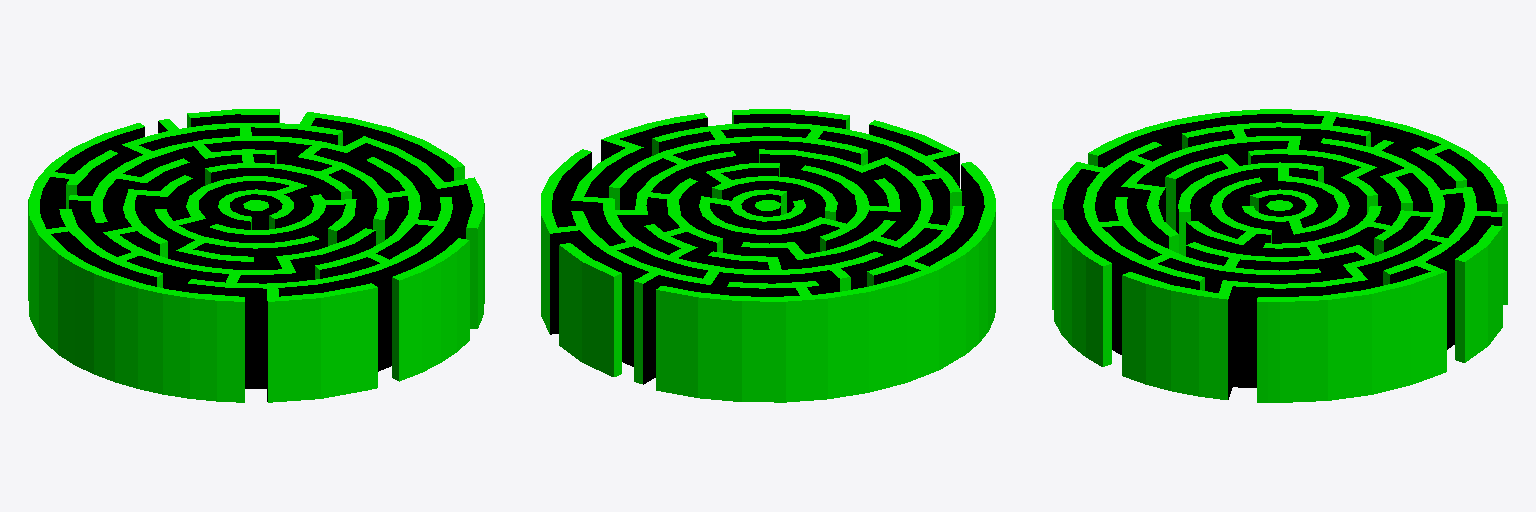
Rendered from GreenMaze.obj.
3 views of the same model, side by side, from view 1: azimuth 30°, elevation 25°; view 2: azimuth 150°, elevation 25°; view 3: azimuth 270°, elevation 25° (orthographic).
Visible parts, largest first — view 1: Mesh1 Model, Mesh3 Model, Mesh6 Model, Mesh2 Model, Mesh5 Model, Mesh4 Model; view 2: Mesh1 Model, Mesh3 Model, Mesh5 Model, Mesh2 Model, Mesh6 Model; view 3: Mesh1 Model, Mesh3 Model, Mesh6 Model, Mesh5 Model, Mesh2 Model.
Part boxes in pixels (bbox=[...]): Mesh1 Model: bbox=[28, 112, 484, 402]; Mesh3 Model: bbox=[154, 176, 319, 269]; Mesh6 Model: bbox=[392, 238, 469, 381]; Mesh2 Model: bbox=[208, 194, 356, 248]; Mesh5 Model: bbox=[187, 109, 279, 127]; Mesh4 Model: bbox=[243, 200, 269, 229]; Mesh1 Model: bbox=[541, 113, 995, 402]; Mesh3 Model: bbox=[699, 165, 900, 254]; Mesh5 Model: bbox=[559, 243, 621, 376]; Mesh2 Model: bbox=[705, 163, 837, 222]; Mesh6 Model: bbox=[732, 109, 849, 129]; Mesh1 Model: bbox=[1052, 109, 1507, 402]; Mesh3 Model: bbox=[1165, 154, 1349, 255]; Mesh6 Model: bbox=[1054, 220, 1111, 366]; Mesh5 Model: bbox=[1455, 225, 1502, 362]; Mesh2 Model: bbox=[1186, 177, 1271, 255].
Bounding box in the file's own units: 493 × 120 × 492.